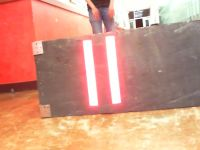switch: (82, 40, 100, 106), (105, 36, 122, 103)
